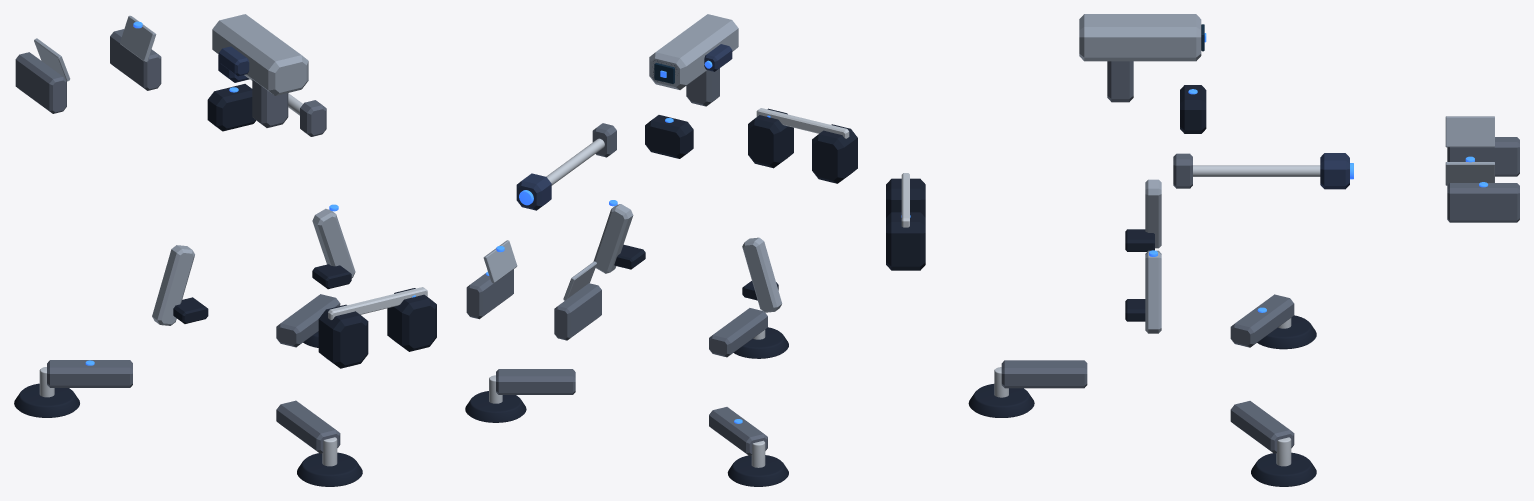
Rendered from tower_lance_range_s10.glb.
The picture shows the model from 3 angles, left to right: view 1: azimuth 30°, elevation 25°; view 2: azimuth 150°, elevation 25°; view 3: azimuth 270°, elevation 25°; orthographic projection. The views are drawn at different scales.
Visible parts, largest first — view 1: lance_optic_long, lance_counterweight_r, lance_outrigger_arm0, lance_counterweight_l, lance_shroud_ext_r, lance_brace_gusset_r, lance_optic_shade_deep, lance_outrigger_arm2, lance_shroud_ext_l, lance_outrigger_arm1, lance_outrigger_pad2, lance_outrigger_pad0 (+9 smaller); view 2: lance_optic_long, lance_counterweight_r, lance_outrigger_arm1, lance_counterweight_l, lance_shroud_ext_r, lance_brace_gusset_r, lance_optic_shade_deep, lance_outrigger_arm2, lance_brace_gusset_l, lance_shroud_ext_l, lance_outrigger_arm0, lance_outrigger_pad0 (+11 smaller); view 3: lance_optic_long, lance_shroud_ext_l, lance_outrigger_arm2, lance_counterweight_l, lance_outrigger_arm0, lance_outrigger_arm1, lance_shroud_ext_r, lance_outrigger_pad1, lance_stab_fin_r, lance_outrigger_pad2, lance_designator_boom, lance_brace_gusset_l (+8 smaller).
Part boxes in pixels (<box>): lance_optic_long: <box>212,14,308,95</box>; lance_counterweight_r: <box>318,304,368,368</box>; lance_outrigger_arm0: <box>47,360,132,387</box>; lance_counterweight_l: <box>387,288,436,351</box>; lance_shroud_ext_r: <box>15,52,66,113</box>; lance_brace_gusset_r: <box>152,245,194,325</box>; lance_optic_shade_deep: <box>207,84,255,131</box>; lance_outrigger_arm2: <box>276,400,340,453</box>; lance_shroud_ext_l: <box>110,29,161,90</box>; lance_outrigger_arm1: <box>276,294,340,347</box>; lance_outrigger_pad2: <box>297,452,362,486</box>; lance_outrigger_pad0: <box>14,383,79,417</box>; lance_optic_long: <box>649,14,738,89</box>; lance_counterweight_r: <box>812,124,857,183</box>; lance_outrigger_arm1: <box>496,369,575,394</box>; lance_counterweight_l: <box>748,108,793,168</box>; lance_shroud_ext_r: <box>554,283,601,340</box>; lance_brace_gusset_r: <box>742,237,782,312</box>; lance_optic_shade_deep: <box>645,115,693,158</box>; lance_outrigger_arm2: <box>709,308,767,357</box>; lance_brace_gusset_l: <box>593,204,633,273</box>; lance_shroud_ext_l: <box>466,269,513,319</box>; lance_outrigger_arm0: <box>709,407,767,456</box>; lance_outrigger_pad0: <box>727,455,788,486</box>; lance_optic_long: <box>1079,14,1201,61</box>; lance_shroud_ext_l: <box>1447,183,1519,222</box>; lance_outrigger_arm2: <box>1001,360,1087,388</box>; lance_counterweight_l: <box>886,212,925,270</box>; lance_outrigger_arm0: <box>1230,294,1294,347</box>; lance_outrigger_arm1: <box>1230,401,1294,453</box>; lance_shroud_ext_r: <box>1447,137,1519,176</box>; lance_outrigger_pad1: <box>1251,452,1316,486</box>; lance_stab_fin_r: <box>1445,116,1494,147</box>; lance_outrigger_pad2: <box>968,384,1034,417</box>; lance_designator_boom: <box>1193,165,1320,176</box>; lance_brace_gusset_l: <box>1145,250,1161,333</box>.
Bounding box in the file's own units: 2.37 × 2.57 × 3.84.
